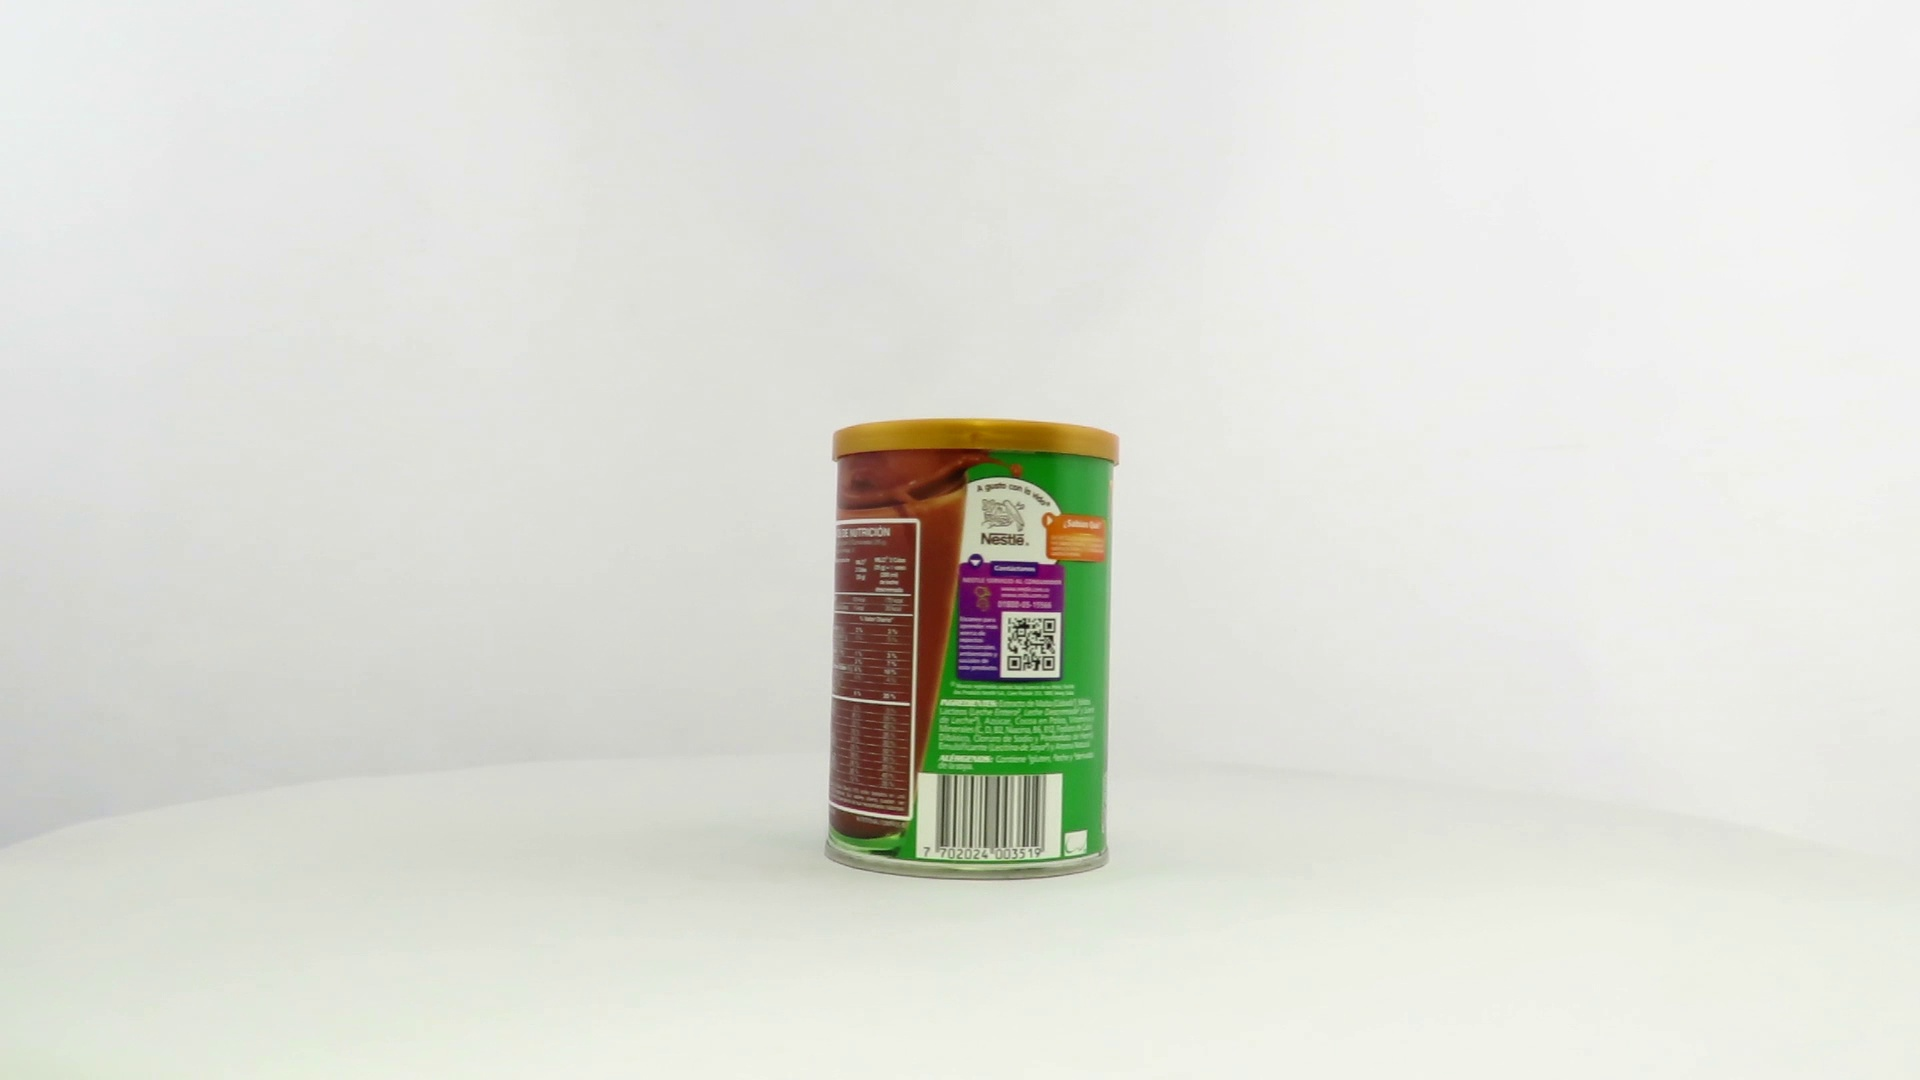COL0170203LAT20000: (819, 413, 1126, 887)
